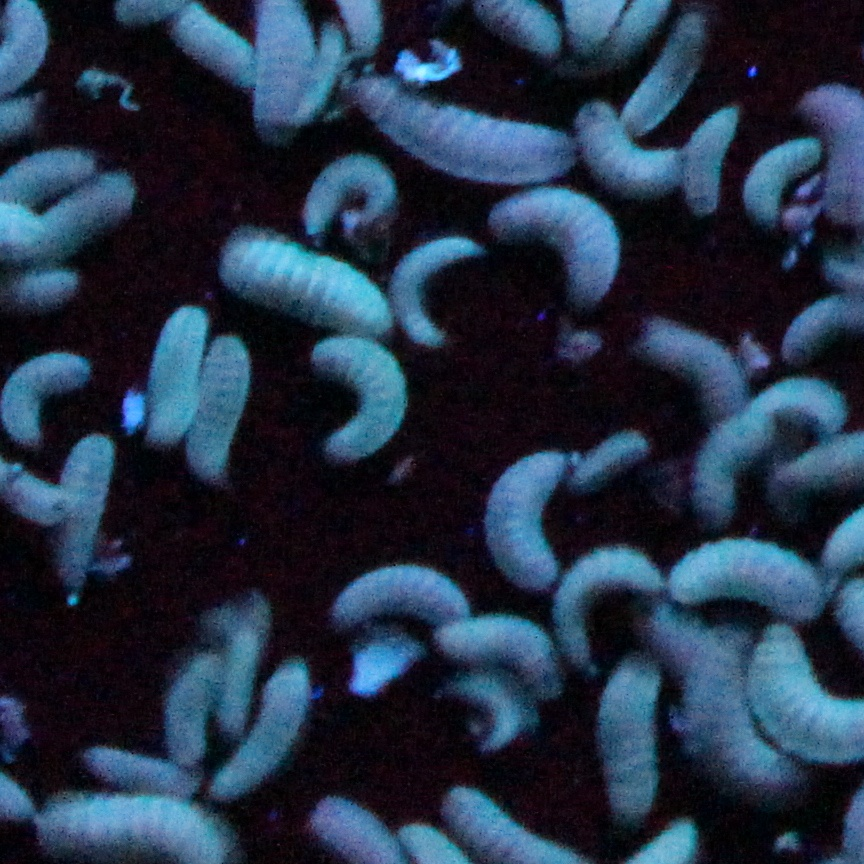larve: (353, 58, 586, 189), (212, 219, 397, 350), (620, 304, 757, 441), (482, 186, 628, 306), (656, 524, 827, 622), (558, 519, 664, 673), (21, 788, 249, 857), (212, 658, 312, 811), (476, 444, 574, 594), (587, 647, 669, 825), (312, 330, 408, 471), (46, 431, 127, 596), (320, 553, 484, 634), (289, 147, 410, 250), (389, 219, 479, 357), (135, 289, 205, 465), (177, 8, 295, 96), (184, 339, 251, 485), (195, 599, 258, 743), (736, 130, 822, 235), (749, 367, 859, 444), (682, 88, 733, 226), (563, 416, 646, 494)
